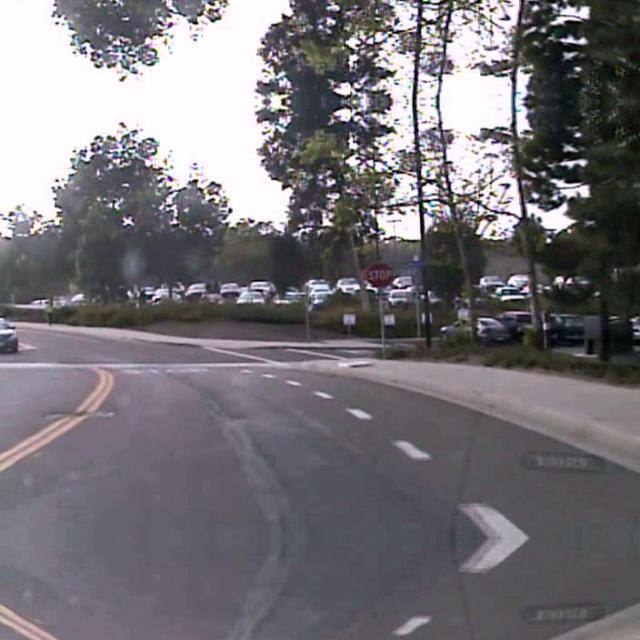stop: (363, 259, 393, 287)
